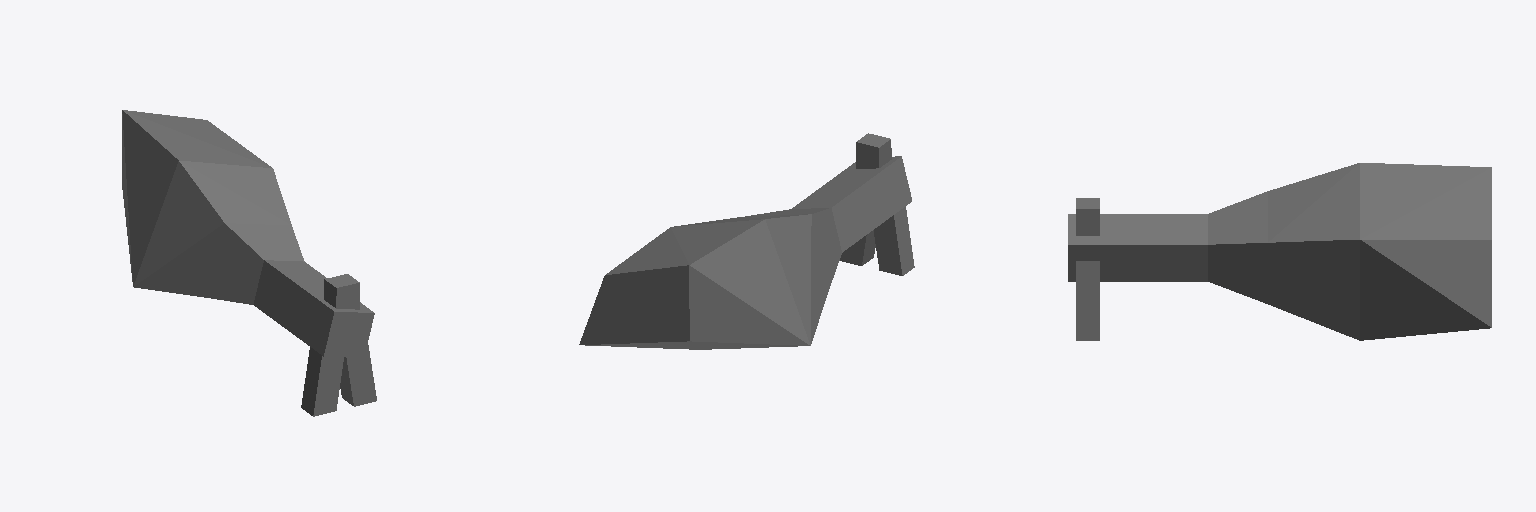
Rendered from left_leg.obj.
3 renders of one model, left to right at view 1: azimuth 30°, elevation 25°; view 2: azimuth 150°, elevation 25°; view 3: azimuth 270°, elevation 25°, orthographic.
Parts seen in each view (by area): view 1: Leg_Left; view 2: Leg_Left; view 3: Leg_Left.
Boxes of the visible parts, x1,y1,x2,y2 form: Leg_Left: [122, 110, 376, 416]; Leg_Left: [579, 133, 914, 349]; Leg_Left: [1068, 163, 1491, 340].
Size of the model in its own units: 0.0145 by 0.0126 by 0.0321.